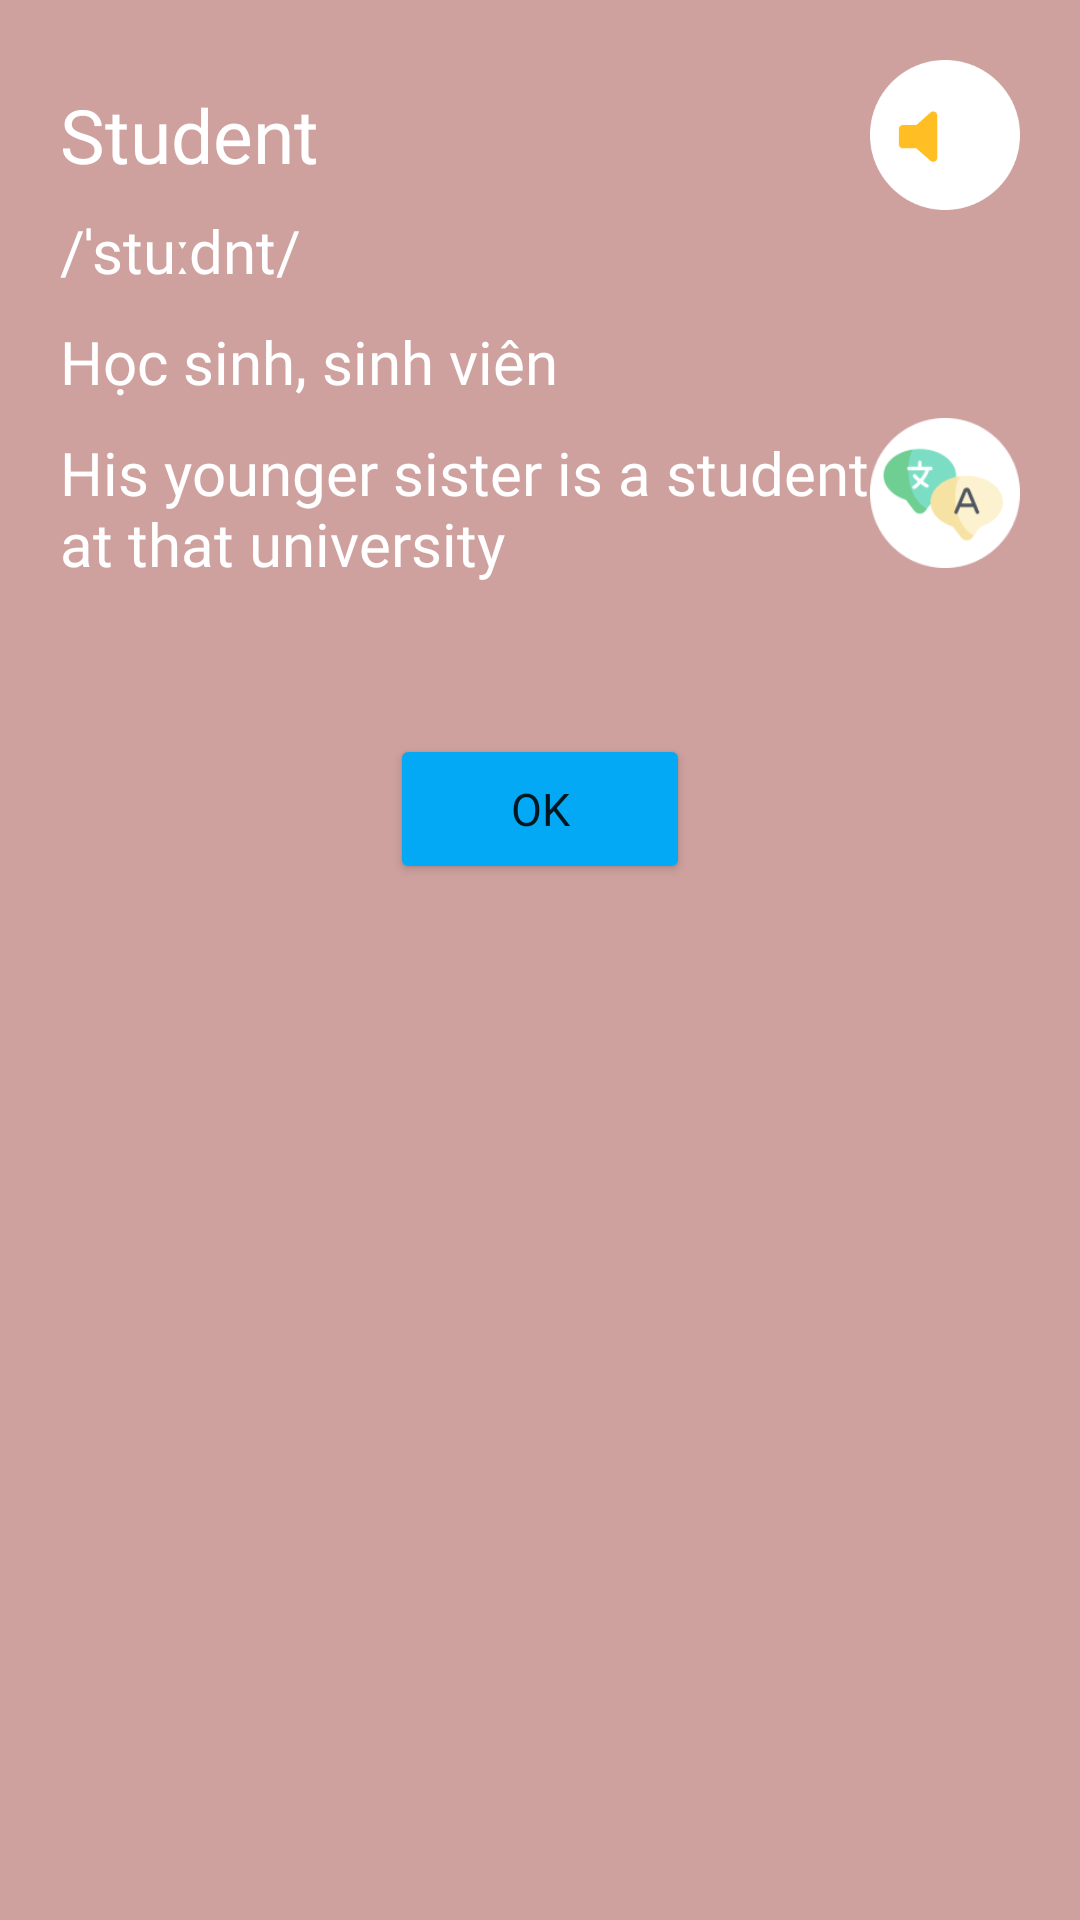

Screen size 1080×1920. Icon name, then its box in pixels as (x1, y1, x2, y2):
translate: (870, 418, 1020, 568)
